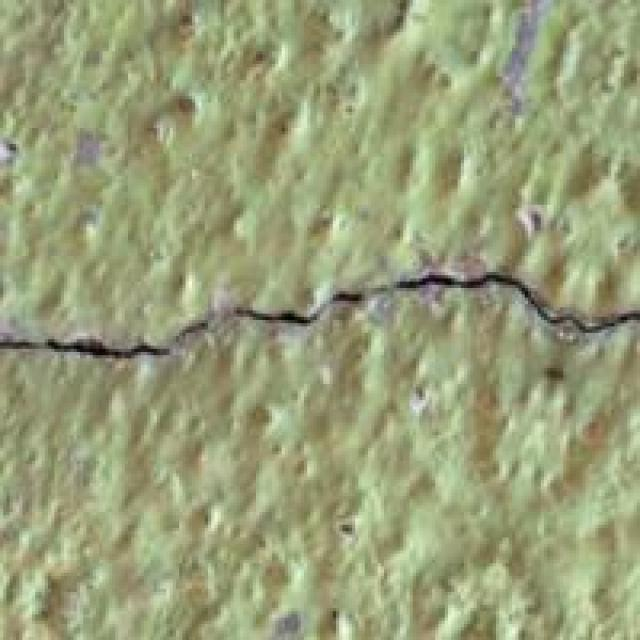Crack: (0, 192, 637, 448)
